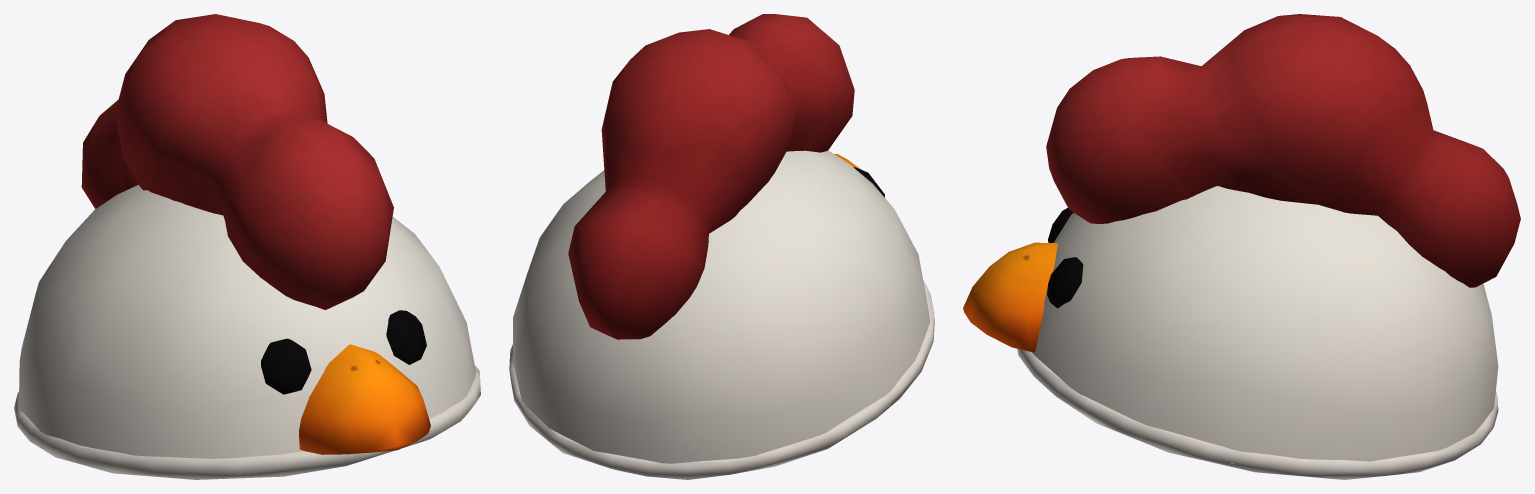
The model's file is Hats_Chicken.fbx.
3 renders of one model, left to right at view 1: azimuth 30°, elevation 25°; view 2: azimuth 150°, elevation 25°; view 3: azimuth 270°, elevation 25°, orthographic. The views are drawn at different scales.
Parts seen in each view (by area): view 1: ChickenHat; view 2: ChickenHat; view 3: ChickenHat.
Boxes of the visible parts, box(x1,y1,x2,y2) form: ChickenHat: box(14, 14, 480, 479); ChickenHat: box(509, 14, 934, 479); ChickenHat: box(963, 14, 1520, 479).
Bounding box in the file's own units: 18.1 × 17.66 × 22.53.
